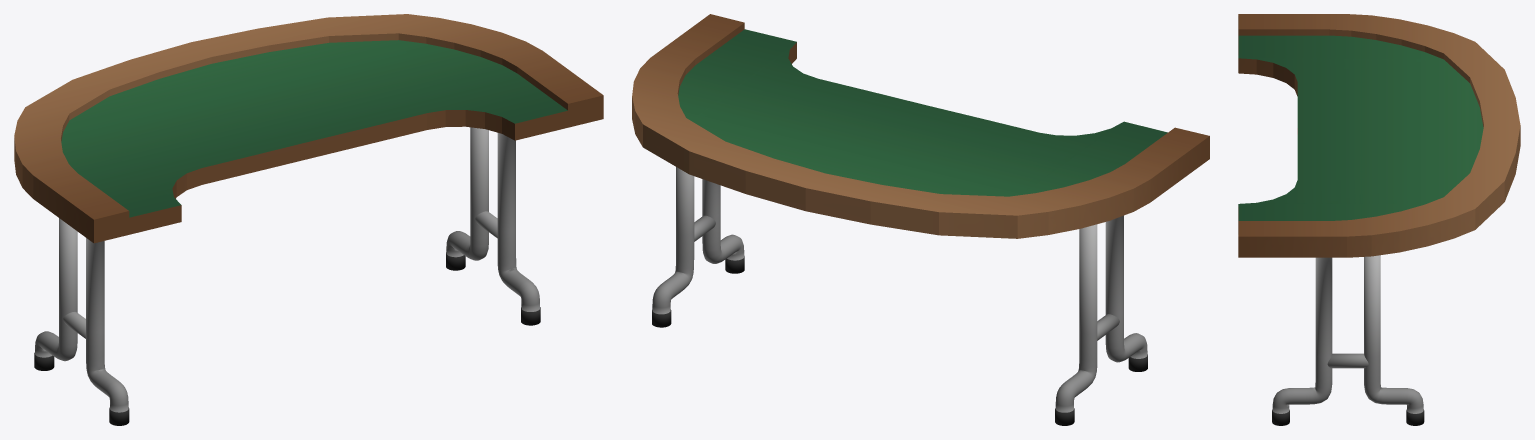
The model's file is blackjack.fbx.
3 views of the same model, side by side, from view 1: azimuth 30°, elevation 25°; view 2: azimuth 150°, elevation 25°; view 3: azimuth 270°, elevation 25° (orthographic). The views are drawn at different scales.
Visible parts, largest first — view 1: Cube, Cylinder.003, Cylinder.001; view 2: Cube, Cylinder.003, Cylinder.001; view 3: Cube, Cylinder.001.
Part boxes in pixels (x1,y1,x2,y2): Cube: [14, 14, 603, 243]; Cylinder.003: [34, 218, 129, 425]; Cylinder.001: [446, 127, 540, 325]; Cube: [632, 14, 1209, 238]; Cylinder.003: [1055, 215, 1147, 425]; Cylinder.001: [652, 167, 744, 327]; Cube: [1238, 14, 1520, 257]; Cylinder.001: [1272, 255, 1424, 425].
Bounding box in the file's own units: 977 × 424 × 523.
